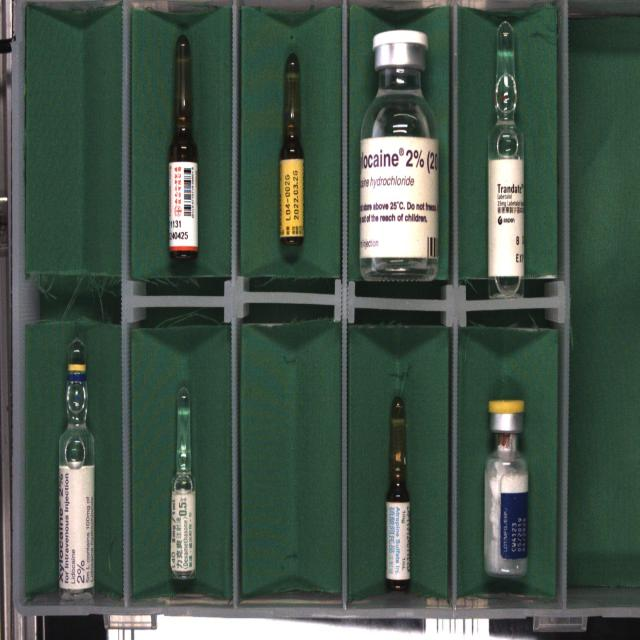Vials: (360, 29, 439, 281), (484, 400, 528, 577)
